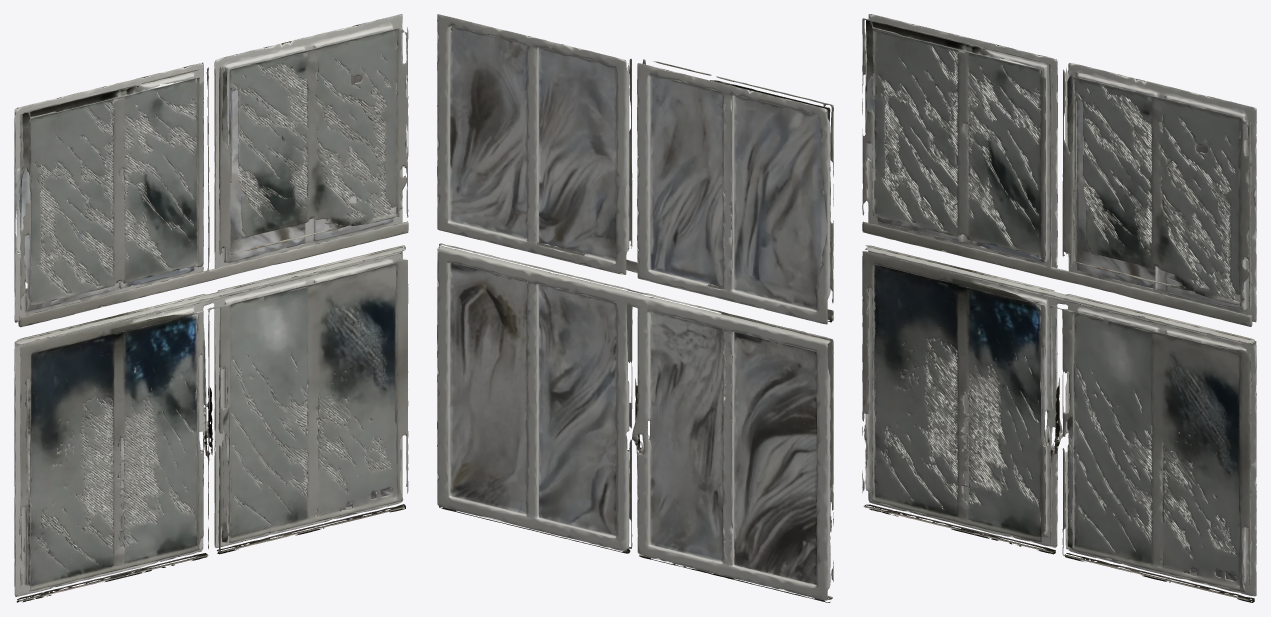
The model's file is B073NZFTGF.glb.
3 renders of one model, left to right at view 1: azimuth 30°, elevation 25°; view 2: azimuth 150°, elevation 25°; view 3: azimuth 330°, elevation 25°, orthographic.
Parts seen in each view (by area): view 1: geometry_0; view 2: geometry_0; view 3: geometry_0.
Boxes of the visible parts, left/top/right/bottom form: geometry_0: left=14, top=14, right=408, bottom=602; geometry_0: left=437, top=14, right=833, bottom=602; geometry_0: left=862, top=14, right=1256, bottom=602.
Size of the model in its own units: 0.8194 by 0.9898 by 0.0231.
1 material, 1 textured.
